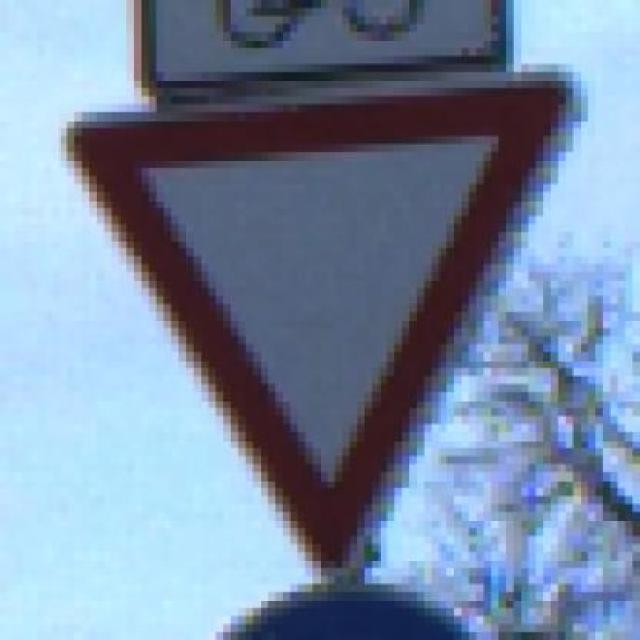Give Way: (22, 56, 610, 584)
